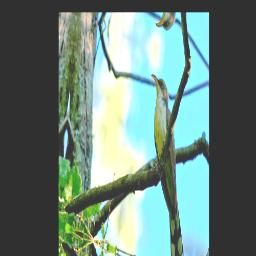Cuckoo: (136, 73, 198, 256)
